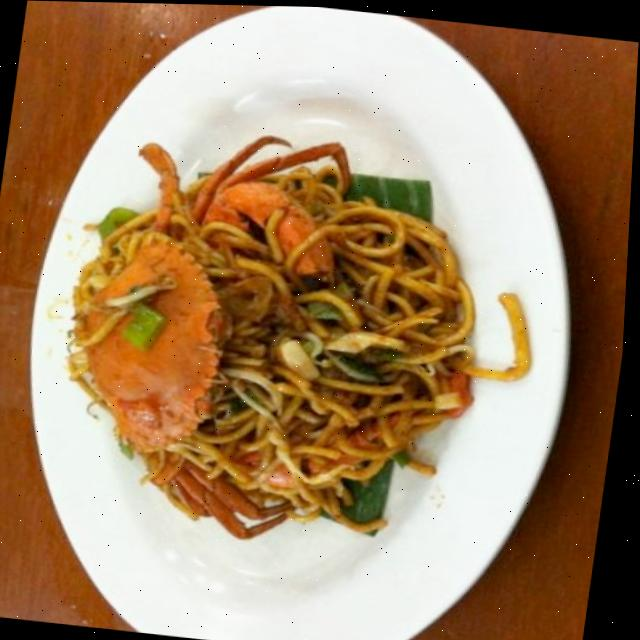面条主食: (0, 27, 589, 640)
